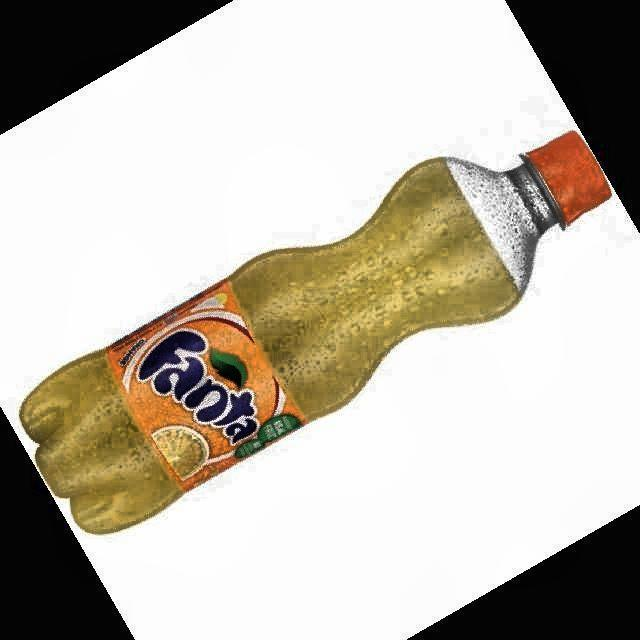plastic: (20, 132, 610, 533)
